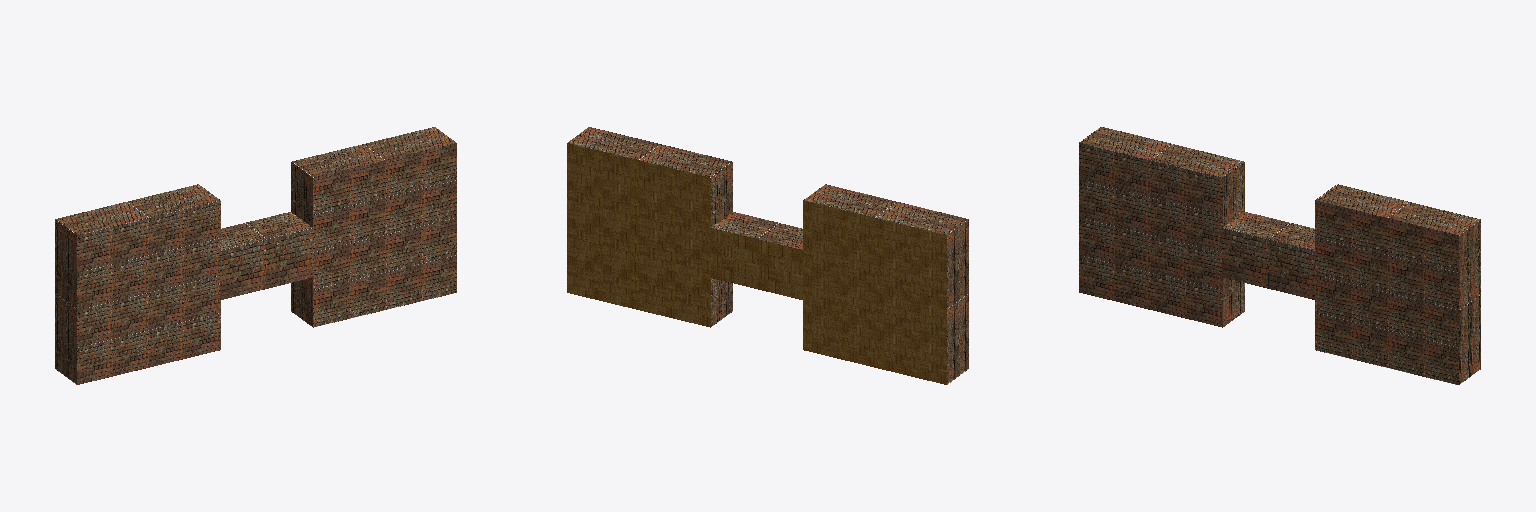
3 views of the same model, side by side, from view 1: azimuth 30°, elevation 25°; view 2: azimuth 150°, elevation 25°; view 3: azimuth 330°, elevation 25° (orthographic).
Visible parts, largest first — view 1: Object.1; view 2: Object.1; view 3: Object.1.
Part boxes in pixels (x1,y1,x2,y2): Object.1: (55,127,456,384); Object.1: (567,127,968,384); Object.1: (1079,127,1480,384).
Size of the model in its own units: 85.4 by 32.32 by 8.56.
2 materials, 2 textured.